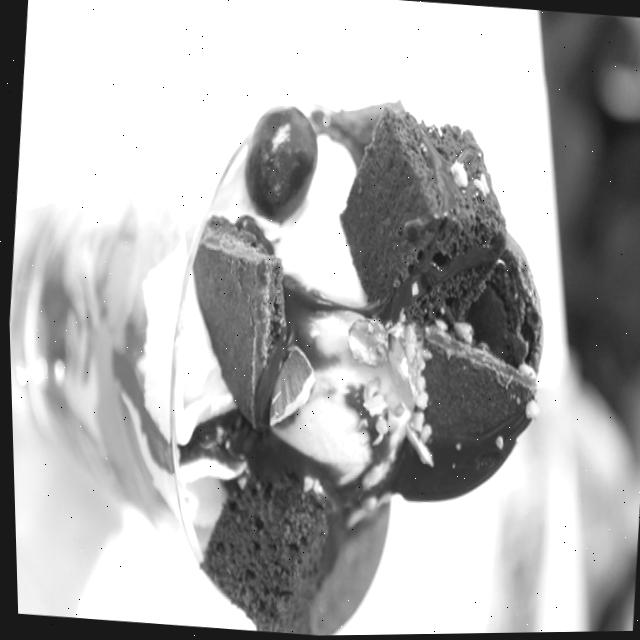蛋糕甜品: (1, 38, 620, 640)
